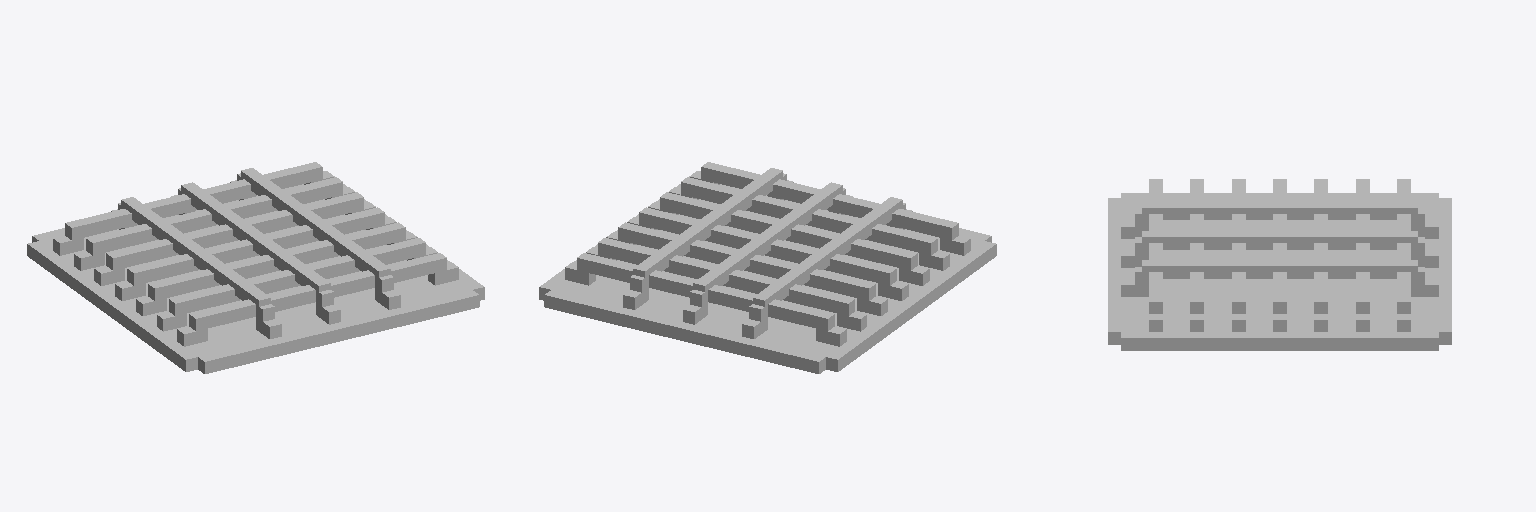
The model's file is Murder assets-3.obj.
3 views of the same model, side by side, from view 1: azimuth 30°, elevation 25°; view 2: azimuth 150°, elevation 25°; view 3: azimuth 270°, elevation 25° (orthographic).
Parts seen in each view (by area): view 1: object 1; view 2: object 1; view 3: object 1.
Part boxes in pixels (x1,y1,x2,y2): object 1: (27,162,484,373); object 1: (539,162,996,373); object 1: (1108,179,1451,350).
Size of the model in its own units: 5 by 0.7 by 5.